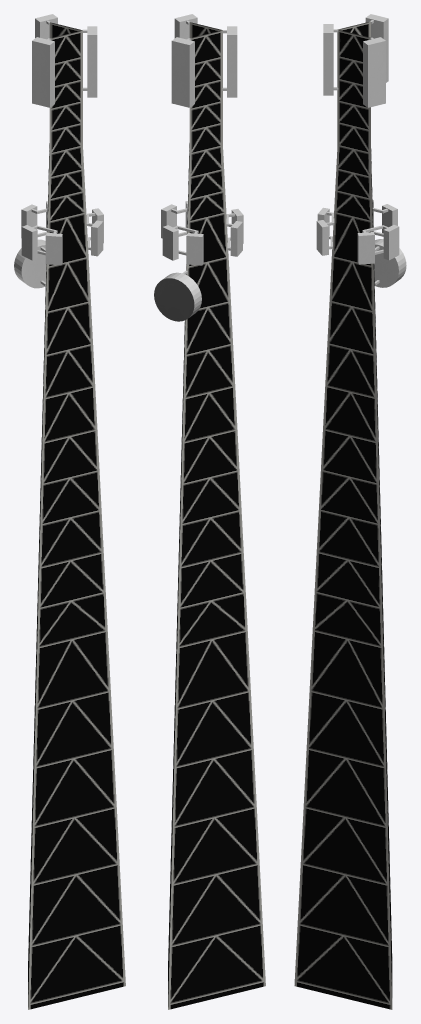
The model's file is tower-radio-70m-cbj_LOD00.gltf.
3 views of the same model, side by side, from view 1: azimuth 30°, elevation 25°; view 2: azimuth 150°, elevation 25°; view 3: azimuth 330°, elevation 25° (orthographic).
Visible parts, largest first — view 1: post; view 2: post; view 3: post.
Boxes of the visible parts, x1=… form: post: x1=14, y1=14, x2=125, y2=1009; post: x1=154, y1=14, x2=265, y2=1009; post: x1=294, y1=14, x2=406, y2=1009.
Size of the model in its own units: 7.5 by 70.02 by 6.87.
